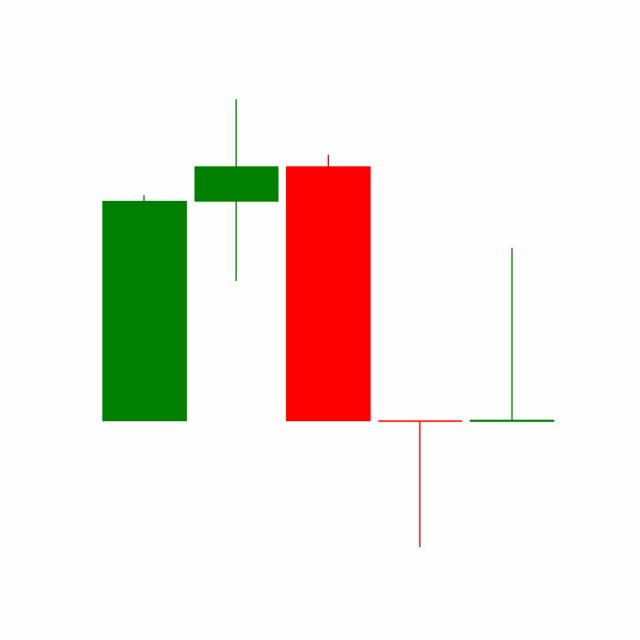Hammer: (373, 419, 467, 549)
